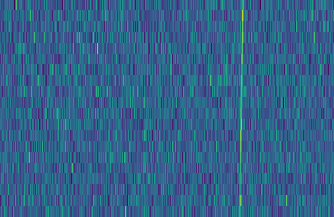signal: (236, 0, 248, 217)
